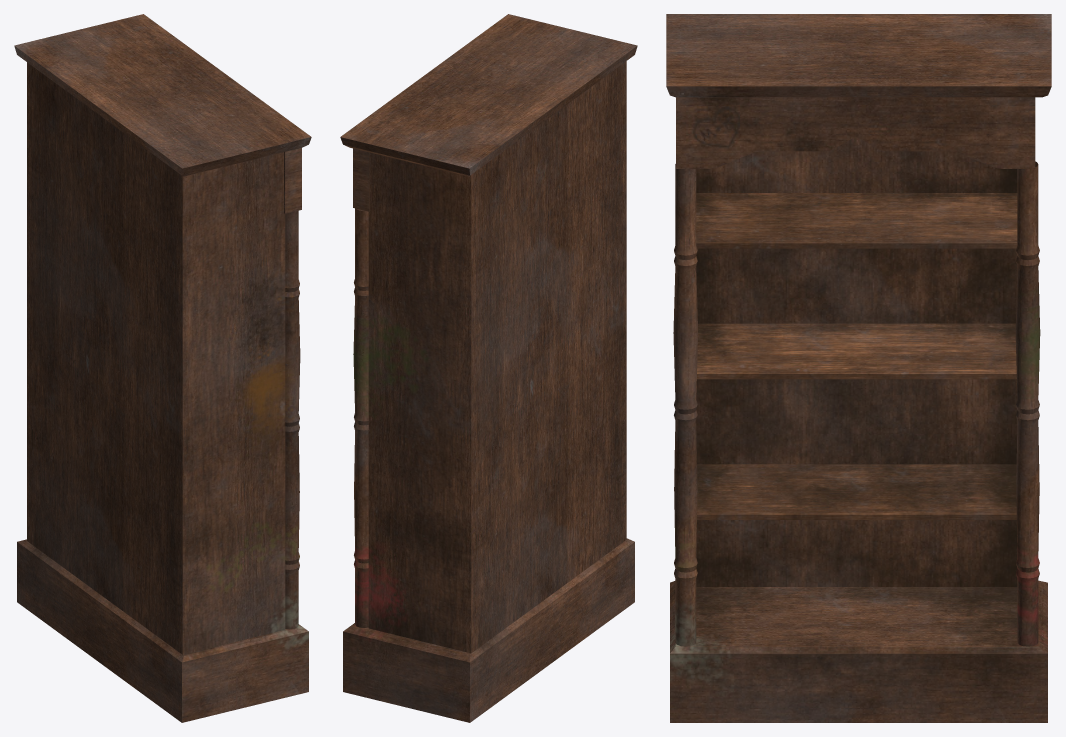
Rendered from shelf.glb.
The picture shows the model from 3 angles, left to right: view 1: azimuth 30°, elevation 25°; view 2: azimuth 150°, elevation 25°; view 3: azimuth 270°, elevation 25°; orthographic projection. The views are drawn at different scales.
Parts seen in each view (by area): view 1: Shelf; view 2: Shelf; view 3: Shelf.
Boxes of the visible parts, bbox=[...] form: Shelf: bbox=[14, 14, 311, 722]; Shelf: bbox=[340, 14, 637, 722]; Shelf: bbox=[666, 14, 1051, 722].
Bounding box in the file's own units: 0.4905 × 2.01 × 1.1.
1 material, 1 textured.
